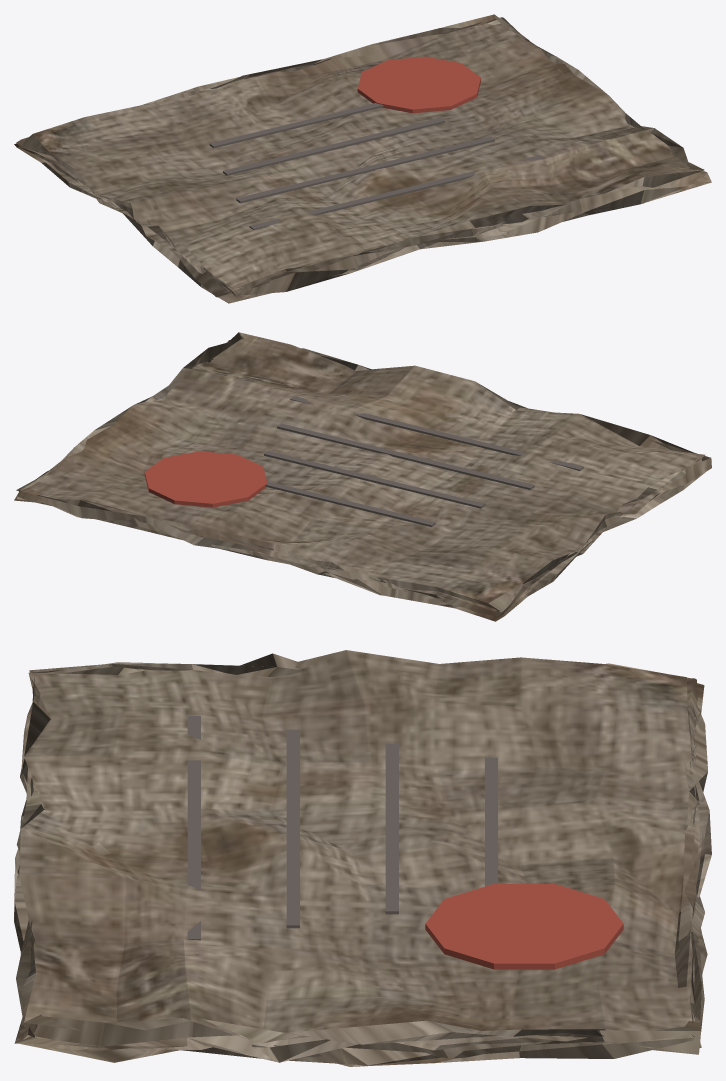
File: recipe_page.glb
3 views of the same model, one above another, from view 1: azimuth 30°, elevation 25°; view 2: azimuth 150°, elevation 25°; view 3: azimuth 270°, elevation 25° (orthographic). The views are drawn at different scales.
Visible parts, largest first — view 1: model; view 2: model; view 3: model.
Boxes of the visible parts, box(x1,y1,x2,y2) form: model: box(14, 14, 711, 303); model: box(14, 332, 711, 621); model: box(14, 650, 711, 1066).
Size of the model in its own units: 0.2713 by 0.0192 by 0.2113.
Materials: 3 (1 with a texture image).
